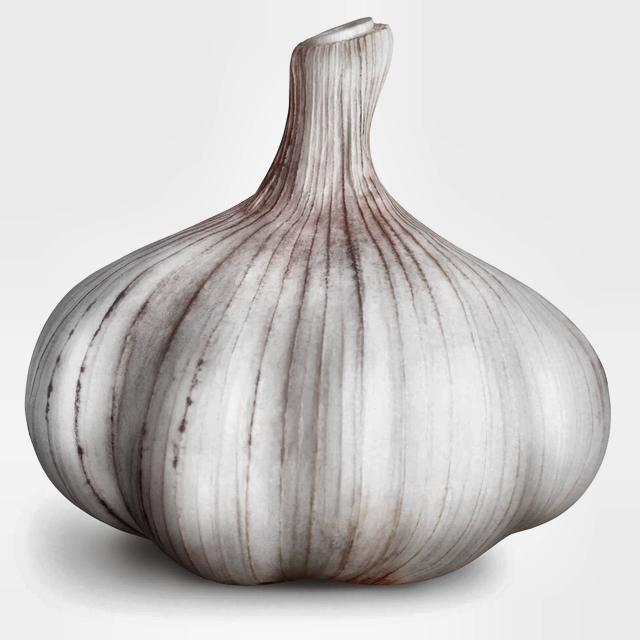garlic: (26, 19, 610, 584)
